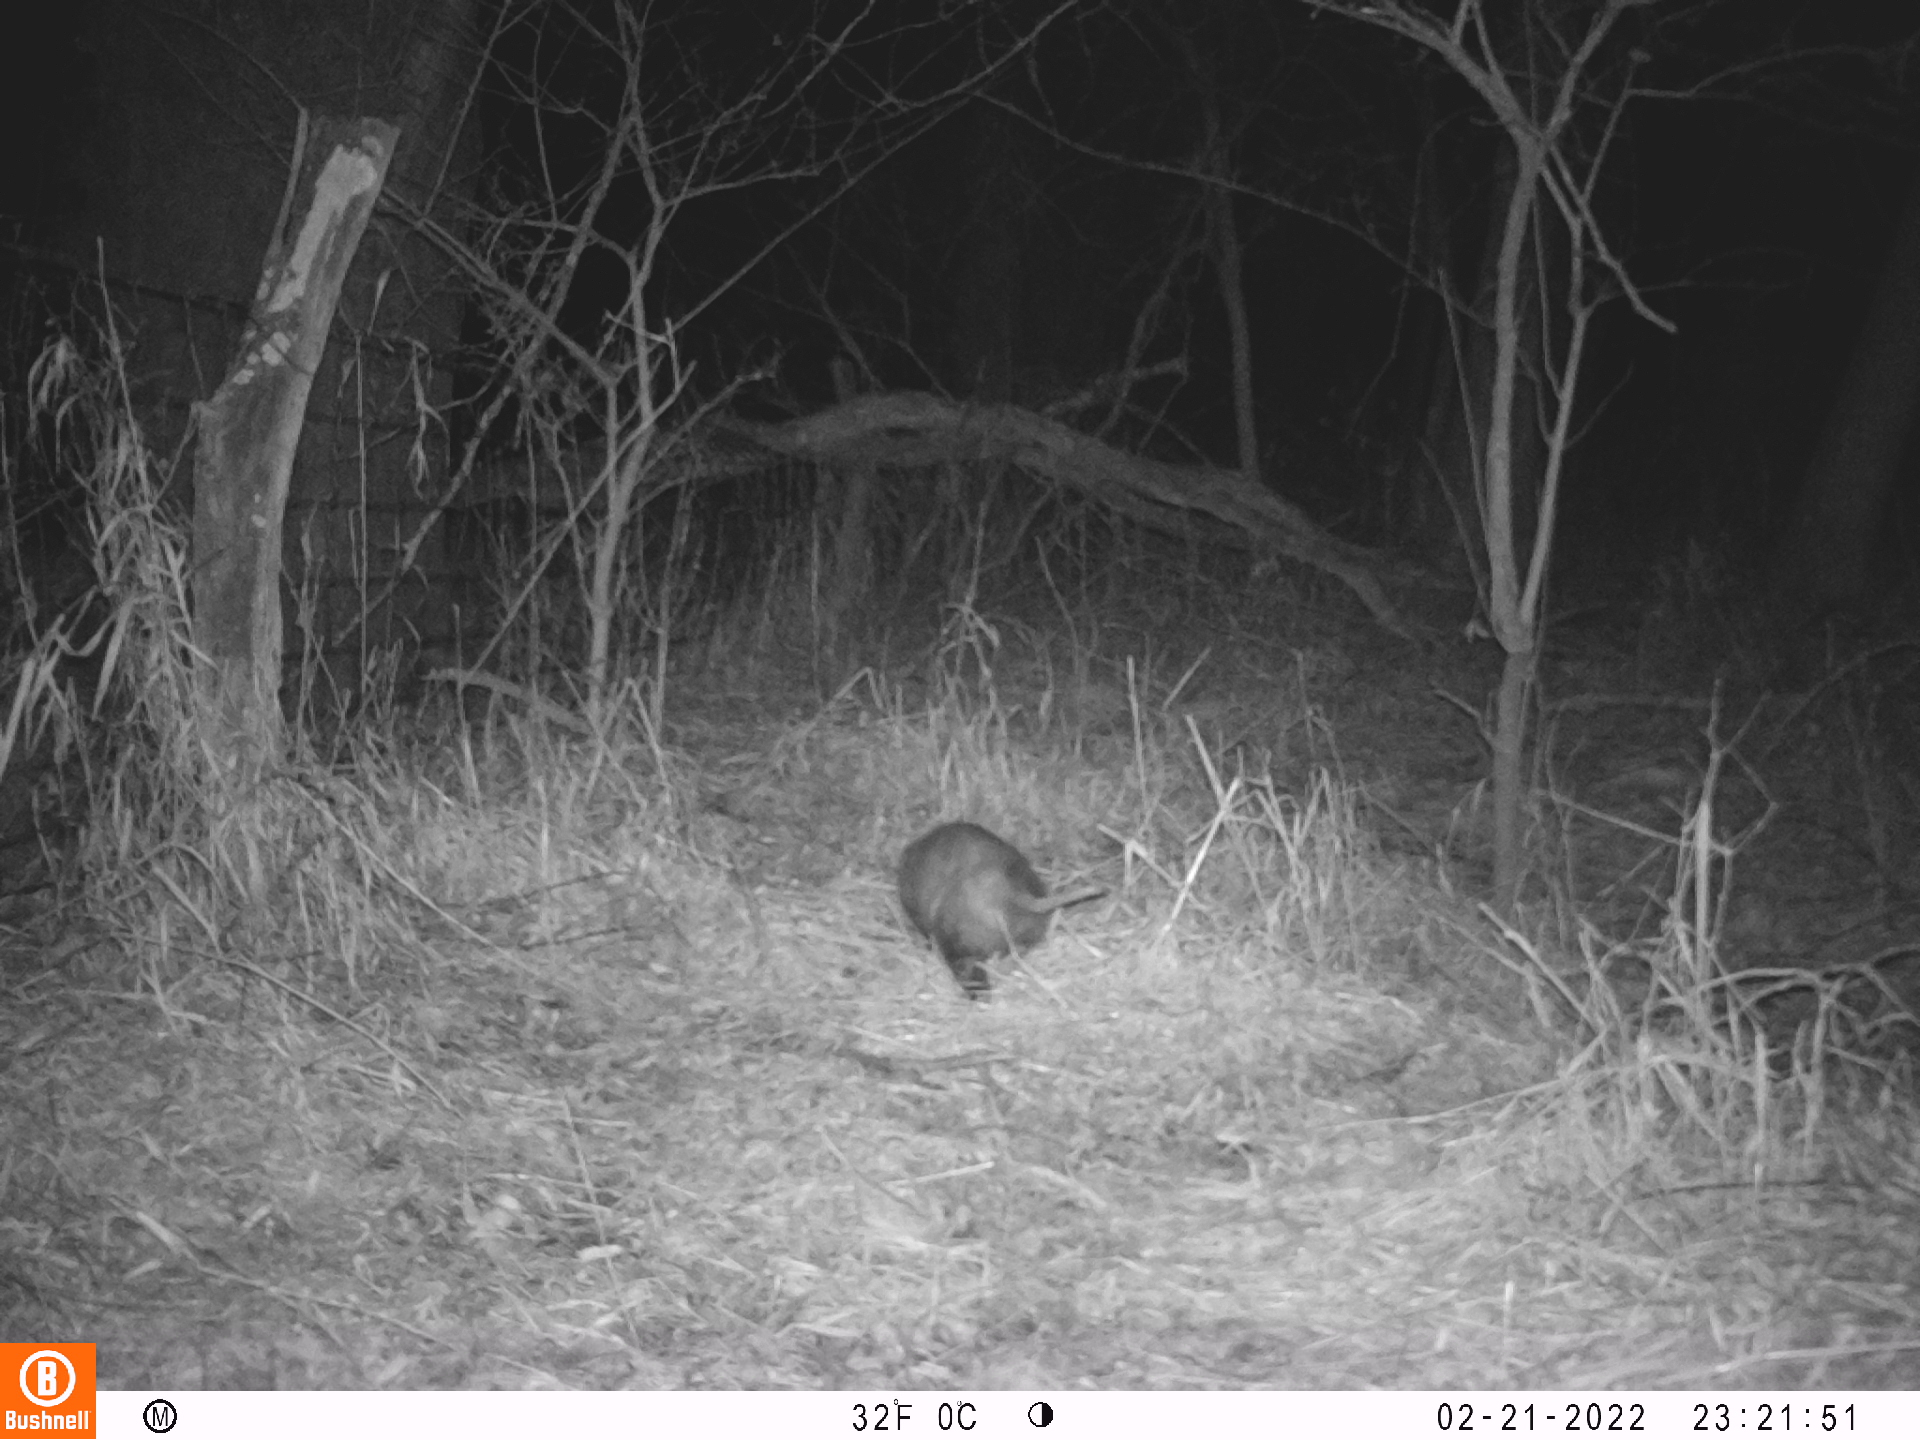Possum: (893, 818, 1108, 995)
